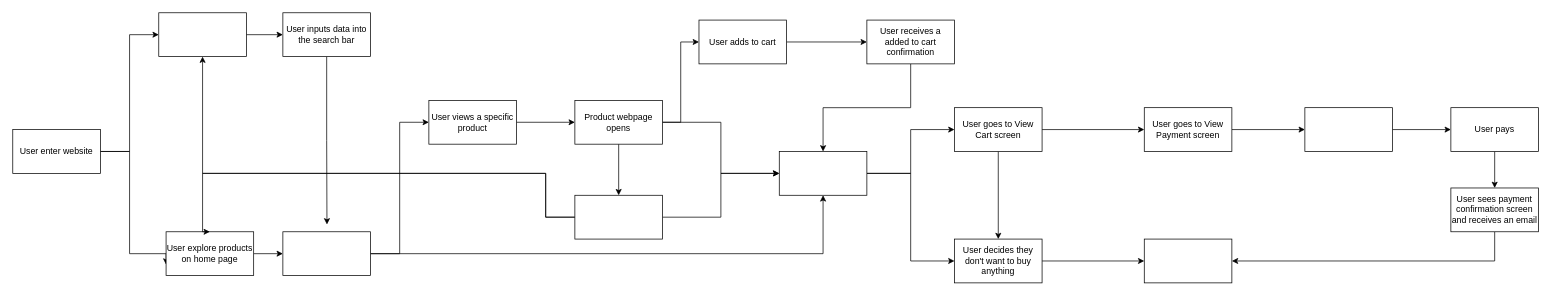
Some shapes in this 1551 by 296 pixel diagram are drawn without their labels. Each missing label, with the centre of its shape:
Leave website: the point at 1188,260
User begin/continue looking over products: the point at 326,253
User continues shopping: the point at 618,217
User decides they are done shopping: the point at 823,173
User inputs payment information: the point at 1348,129
User wants to searching for specific products: the point at 202,34
